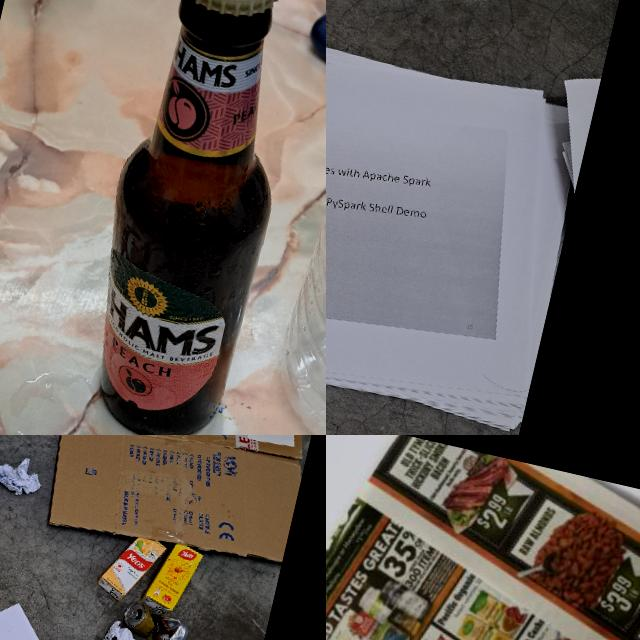aba de lata: (124, 607, 138, 620)
caixinha: (95, 528, 167, 608), (144, 538, 204, 616)
garrafa de vidro: (62, 0, 325, 435)
garrafa plástica: (260, 0, 326, 435)
lata: (121, 600, 191, 640)
papel: (326, 0, 603, 435), (326, 435, 640, 640), (0, 449, 47, 500), (95, 617, 139, 640)
papelão: (27, 435, 326, 576)
